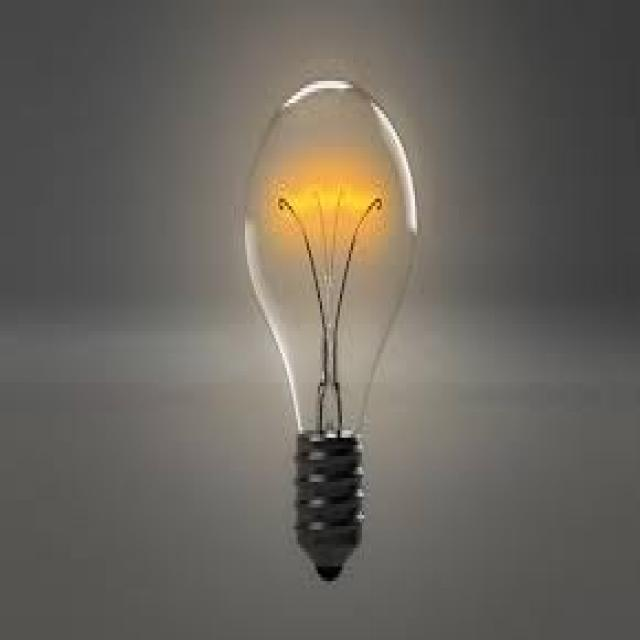light_bulb: (235, 59, 425, 619)
